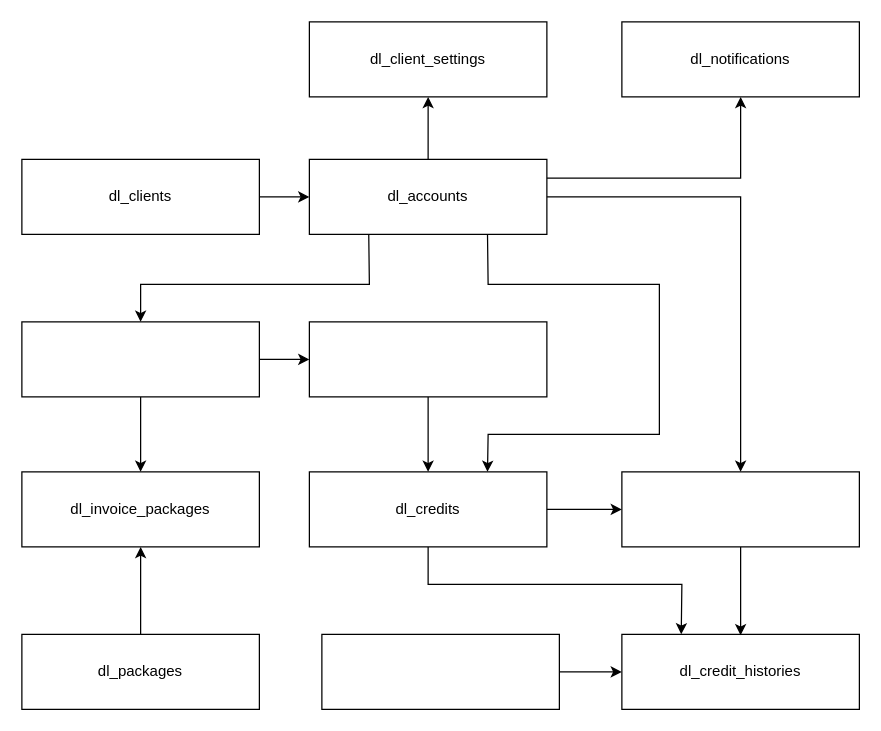
Some shapes in this 881 by 731 pixel diagram are drawn without their labels. The box of each missing label's shape, as (x1, y1, x2, y2) in pixels:
dl_credit_adjustments: (321, 633, 559, 709)
dl_credit_usages: (621, 471, 859, 547)
dl_invoices: (21, 321, 259, 397)
dl_payments: (308, 321, 547, 397)
